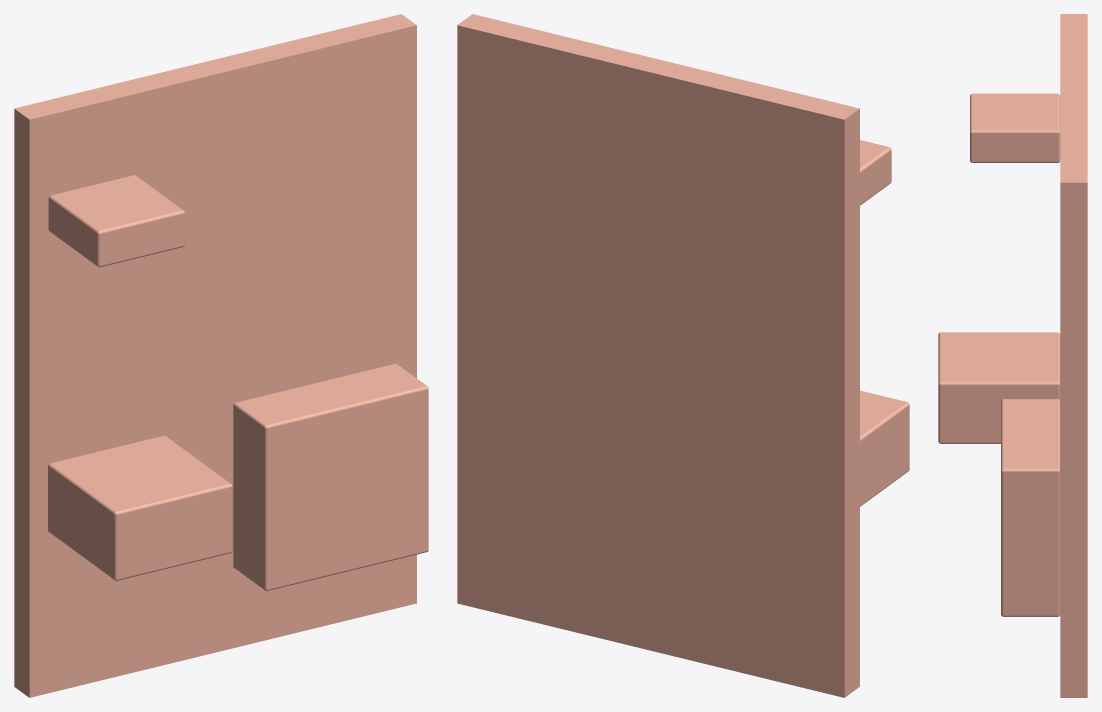
File: gebouw2.gltf
The picture shows the model from 3 angles, left to right: view 1: azimuth 30°, elevation 25°; view 2: azimuth 150°, elevation 25°; view 3: azimuth 270°, elevation 25°; orthographic projection. The views are drawn at different scales.
Visible parts, largest first — view 1: Rectangle, Cube 3, Cube 2, Cube; view 2: Rectangle, Cube 2, Cube; view 3: Rectangle, Cube 3, Cube 2, Cube.
Part boxes in pixels (bbox=[...]): Rectangle: bbox=[14, 14, 416, 697]; Cube 3: bbox=[233, 363, 428, 591]; Cube 2: bbox=[48, 435, 232, 580]; Cube: bbox=[48, 175, 184, 267]; Rectangle: bbox=[457, 14, 859, 697]; Cube 2: bbox=[860, 390, 909, 506]; Cube: bbox=[860, 140, 891, 205]; Rectangle: bbox=[1060, 14, 1087, 697]; Cube 3: bbox=[1001, 399, 1060, 616]; Cube 2: bbox=[938, 332, 1060, 443]; Cube: bbox=[970, 93, 1060, 162].
Size of the model in its own units: 12.29 by 17.53 by 4.6.
